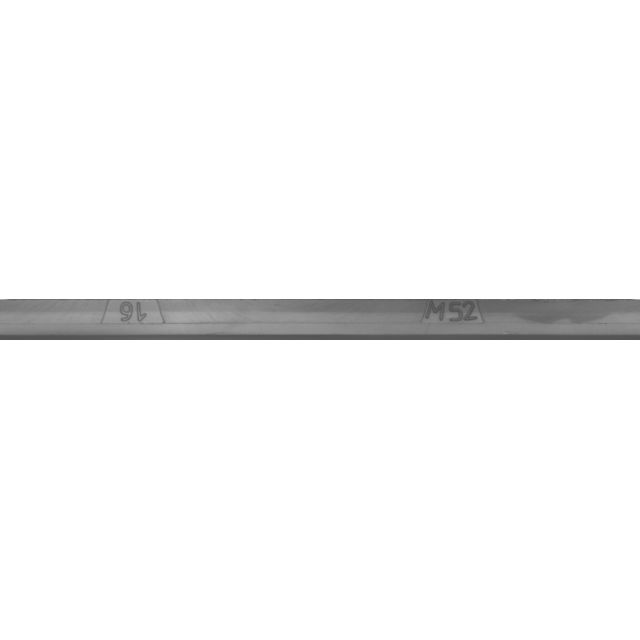mohao: (354, 270, 554, 370)
xuehao: (39, 270, 239, 370)
